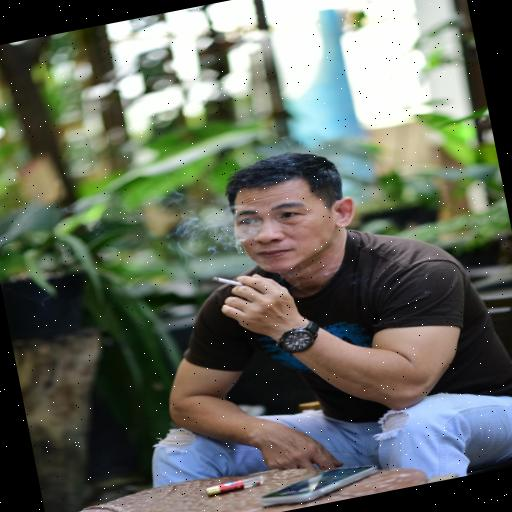asap rokok: (176, 191, 268, 276)
pegang rokok: (193, 246, 310, 346)
